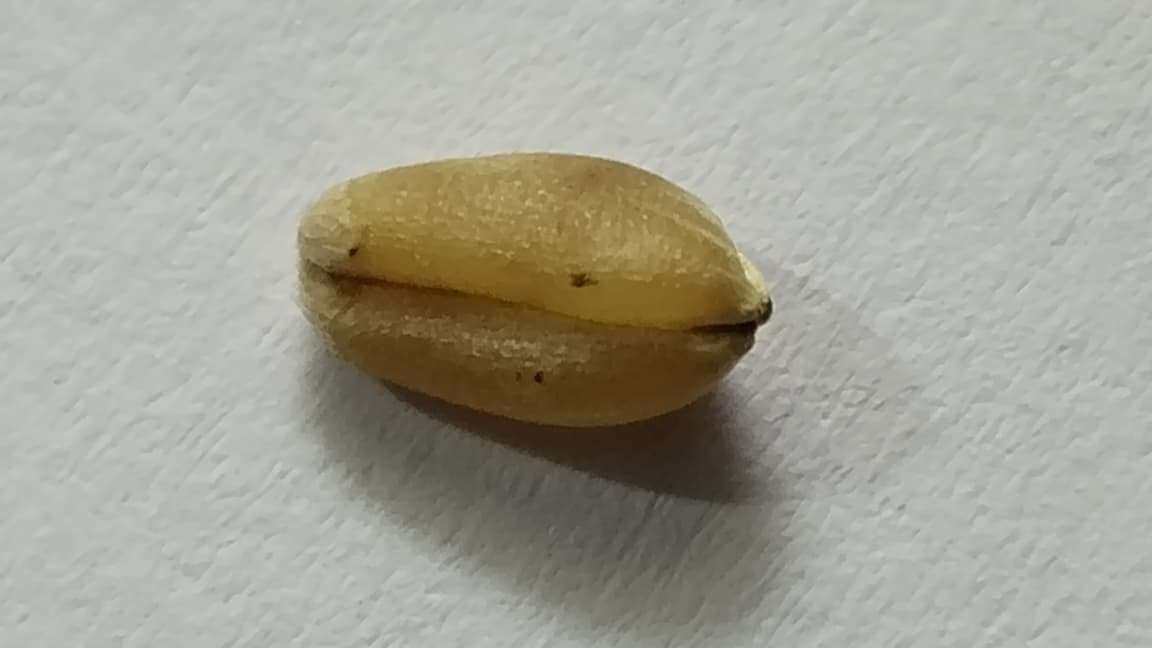black_point: (559, 264, 603, 293), (513, 369, 545, 385)
healthy: (298, 151, 771, 425)
